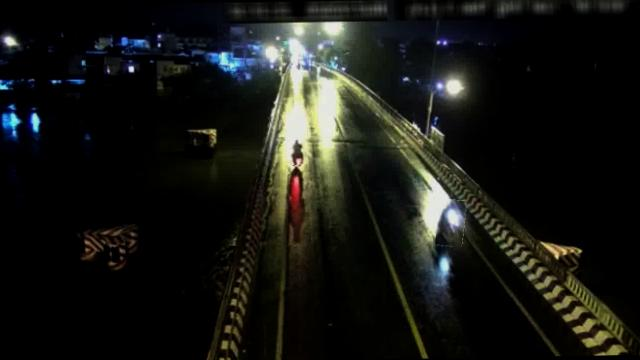Bike: (436, 198, 466, 246), (286, 136, 306, 165)
